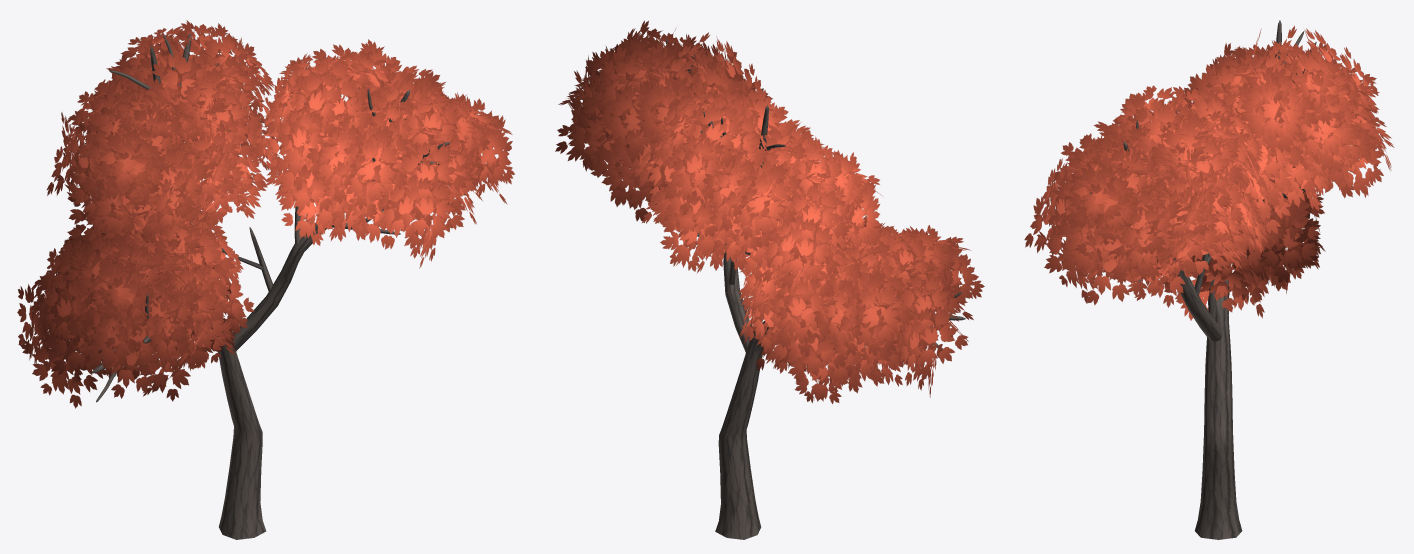
The model's file is MapleTree_5.gltf.
The picture shows the model from 3 angles, left to right: view 1: azimuth 30°, elevation 25°; view 2: azimuth 150°, elevation 25°; view 3: azimuth 270°, elevation 25°; orthographic projection. The views are drawn at different scales.
Parts seen in each view (by area): view 1: MapleTree_5; view 2: MapleTree_5; view 3: MapleTree_5.
Boxes of the visible parts, x1,y1,x2,y2 form: MapleTree_5: (17,20,514,539); MapleTree_5: (555,20,984,539); MapleTree_5: (1024,20,1394,539).
Size of the model in its own units: 7.01 by 7.28 by 5.08.
2 materials, 2 textured.
